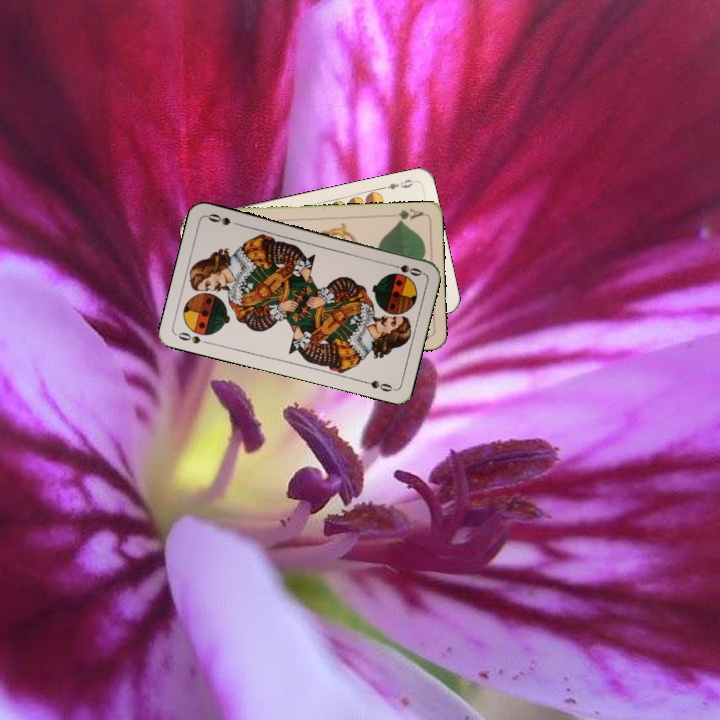E9: (378, 175, 418, 192)
GA: (386, 205, 426, 225)
SO: (385, 260, 425, 279), (174, 328, 213, 347)
